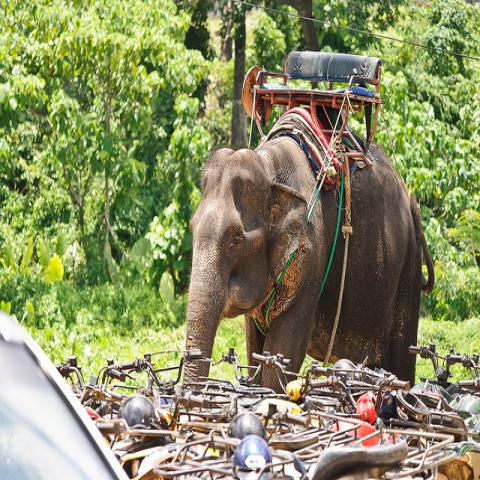car: (0, 311, 129, 479)
